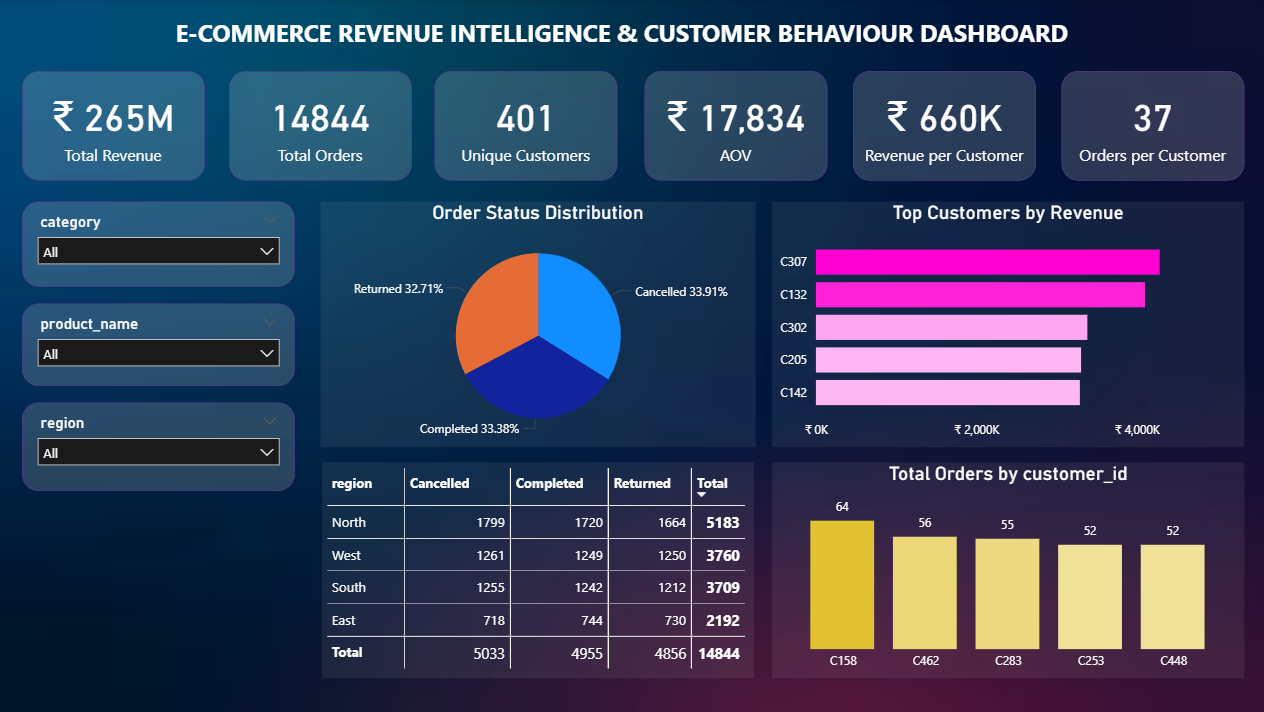

The page's visual inventory and layout, read from the dashboard file:
{"tool":"powerbi","page":{"name":"Customer + Operations","canvas":[1280,720],"ordinal":1},"visuals":[{"type":"textbox","box":[174.3,11.4,931.4,44.3],"z":0},{"type":"card","fields":{"Values":["orders_cleaned.Total Revenue"]},"box":[24.6,72.3,184.6,110.8],"z":1000},{"type":"card","fields":{"Values":["orders_cleaned.Total Orders"]},"box":[233.8,72.3,184.6,110.8],"z":2000},{"type":"card","fields":{"Values":["orders_cleaned.Unique Customers"]},"box":[440,72.3,184.6,110.8],"z":3000},{"type":"card","fields":{"Values":["orders_cleaned.AOV"]},"box":[652.3,72.3,184.6,110.8],"z":4000},{"type":"card","fields":{"Values":["orders_cleaned.Revenue per Customer"]},"box":[863.1,72.3,184.6,110.8],"z":5000},{"type":"card","fields":{"Values":["orders_cleaned.Orders per Customer"]},"box":[1073.8,72.3,184.6,110.8],"z":6000},{"type":"slicer","fields":{"Values":["orders_cleaned.region"]},"box":[24.6,407.7,275.4,89.2],"z":7000},{"type":"slicer","fields":{"Values":["orders_cleaned.category"]},"box":[24.6,204.6,275.4,86.2],"z":8000},{"type":"slicer","fields":{"Values":["orders_cleaned.product_name"]},"box":[24.6,307.7,275.4,83.1],"z":9000},{"type":"clusteredBarChart","title":"Top Customers by Revenue","fields":{"Category":["orders_cleaned.customer_id"],"Y":["Sum(orders_cleaned.revenue)"]},"box":[781.3,204.4,477,248.3],"z":10000},{"type":"pieChart","title":"Order Status Distribution","fields":{"Category":["orders_cleaned.order_status"],"Y":["CountNonNull(orders_cleaned.order_id)"]},"box":[325.6,204.4,439.1,248.3],"z":11000},{"type":"pivotTable","fields":{"Rows":["orders_cleaned.region"],"Columns":["orders_cleaned.order_status"],"Values":["CountNonNull(orders_cleaned.order_id)"]},"box":[327.1,467.9,436.1,218],"z":12000},{"type":"columnChart","fields":{"Category":["orders_cleaned.customer_id"],"Y":["orders_cleaned.Total Orders"]},"box":[781.3,467.9,477,218],"z":12001}]}

Visuals, with their boxes in screenshot pixels (x1, y1, x2, y2), scaled from the page's 1280x720 canvas onto the 1264x712 screenshot:
textbox: detection(172, 11, 1092, 55)
card - orders_cleaned.Total Revenue: detection(24, 71, 207, 181)
card - orders_cleaned.Total Orders: detection(231, 71, 413, 181)
card - orders_cleaned.Unique Customers: detection(434, 71, 617, 181)
card - orders_cleaned.AOV: detection(644, 71, 826, 181)
card - orders_cleaned.Revenue per Customer: detection(852, 71, 1035, 181)
card - orders_cleaned.Orders per Customer: detection(1060, 71, 1243, 181)
slicer - orders_cleaned.region: detection(24, 403, 296, 491)
slicer - orders_cleaned.category: detection(24, 202, 296, 288)
slicer - orders_cleaned.product_name: detection(24, 304, 296, 386)
"Top Customers by Revenue" clusteredBarChart: detection(772, 202, 1243, 448)
"Order Status Distribution" pieChart: detection(322, 202, 755, 448)
pivotTable - orders_cleaned.region x orders_cleaned.order_status: detection(323, 463, 754, 678)
columnChart - orders_cleaned.customer_id x orders_cleaned.Total Orders: detection(772, 463, 1243, 678)
